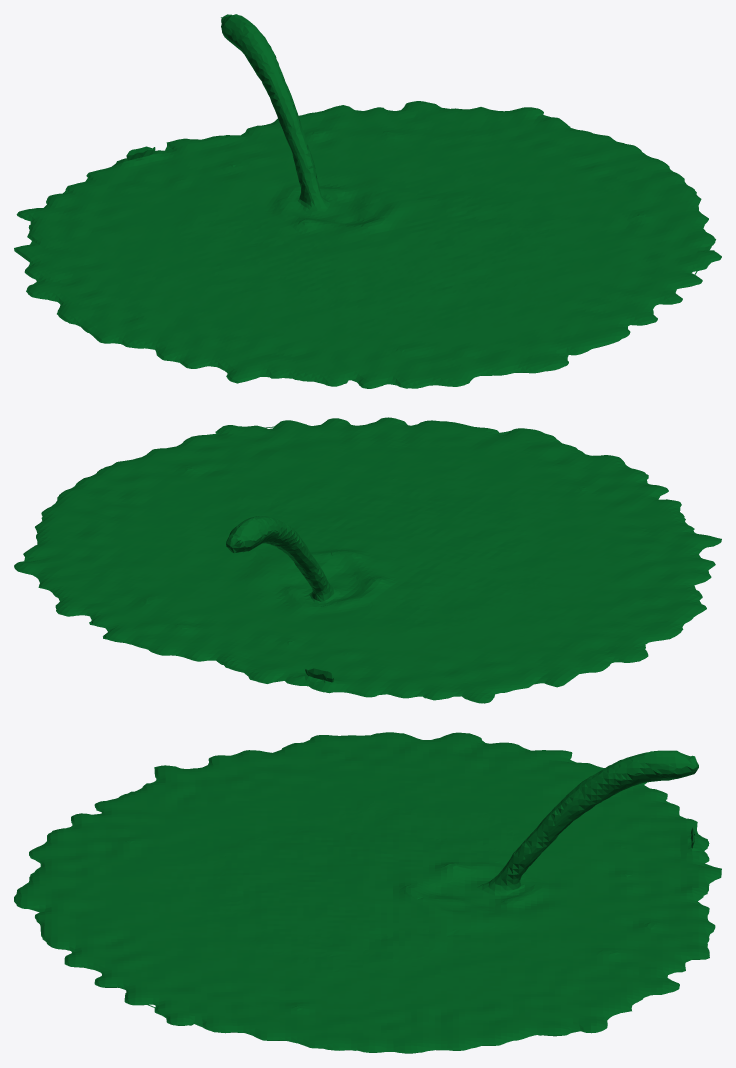
File: fluid_60.fbx
3 views of the same model, one above another, from view 1: azimuth 30°, elevation 25°; view 2: azimuth 150°, elevation 25°; view 3: azimuth 270°, elevation 25° (orthographic). The views are drawn at different scales.
Visible parts, largest first — view 1: Cube; view 2: Cube; view 3: Cube.
Boxes of the visible parts, x1,y1,x2,y2 form: Cube: (14, 14, 721, 388); Cube: (14, 417, 721, 703); Cube: (14, 732, 721, 1053).
Bounding box in the file's own units: 830 × 176 × 775.
